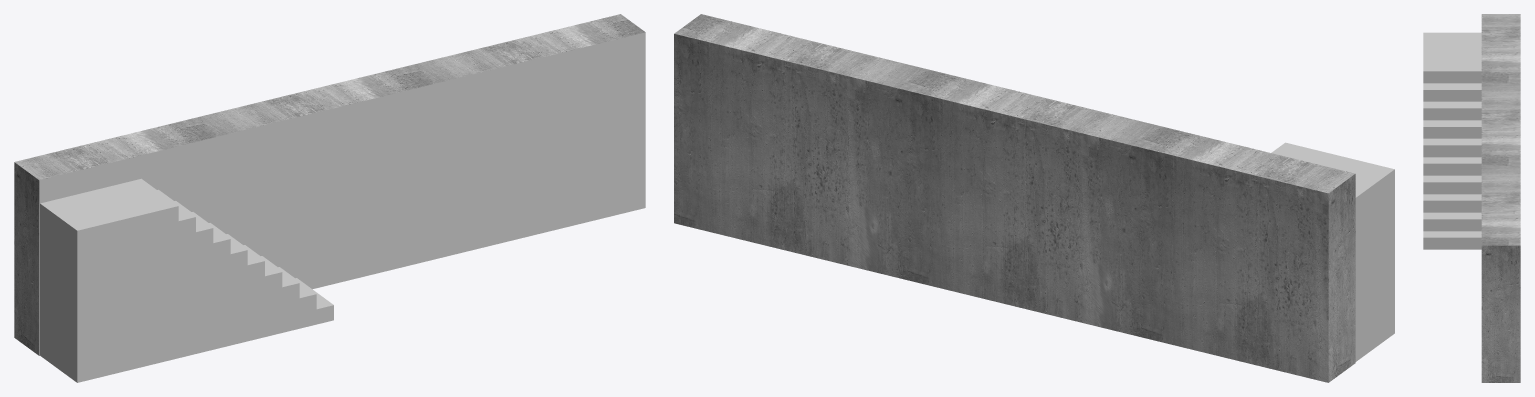
File: pared2DeptoBInvertida.DAE
3 renders of one model, left to right at view 1: azimuth 30°, elevation 25°; view 2: azimuth 150°, elevation 25°; view 3: azimuth 270°, elevation 25°, orthographic. The views are drawn at different scales.
Parts seen in each view (by area): view 1: Box010; view 2: Box010; view 3: Box010.
Part boxes in pixels (left/top/right/bottom): Box010: left=14, top=14, right=645, bottom=382; Box010: left=674, top=14, right=1394, bottom=382; Box010: left=1423, top=14, right=1520, bottom=382.
Bounding box in the file's own units: 11.2 × 3.1 × 1.99.
